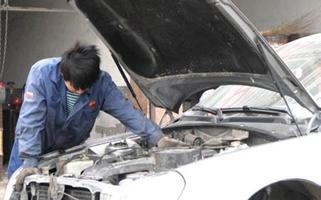person: (7, 44, 186, 191)
